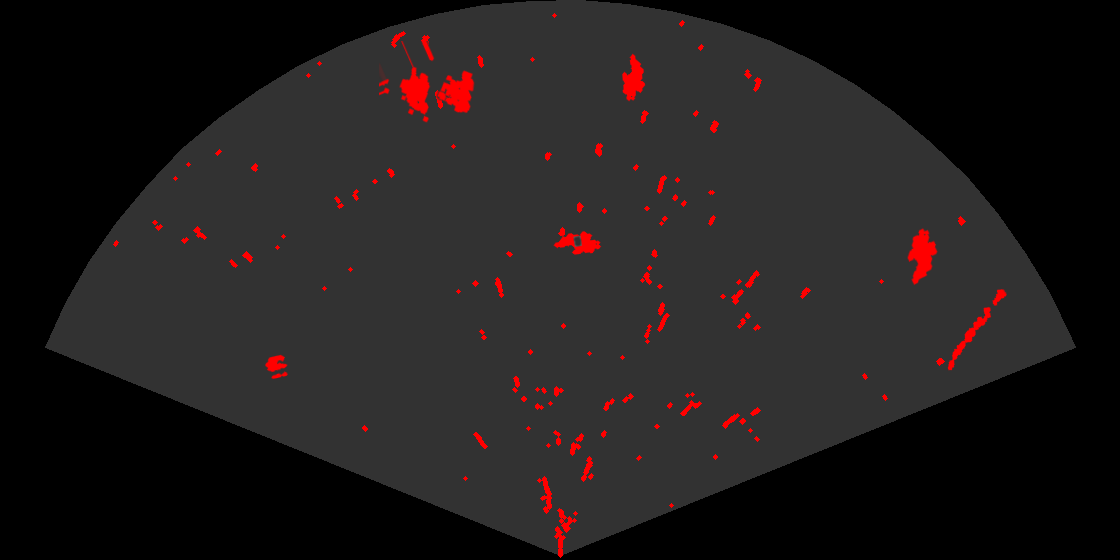AUV: (906, 227, 939, 287), (621, 52, 647, 103), (552, 230, 603, 256)
ball: (264, 353, 290, 381)
cage: (379, 41, 476, 124)
chain: (946, 288, 1008, 372)
